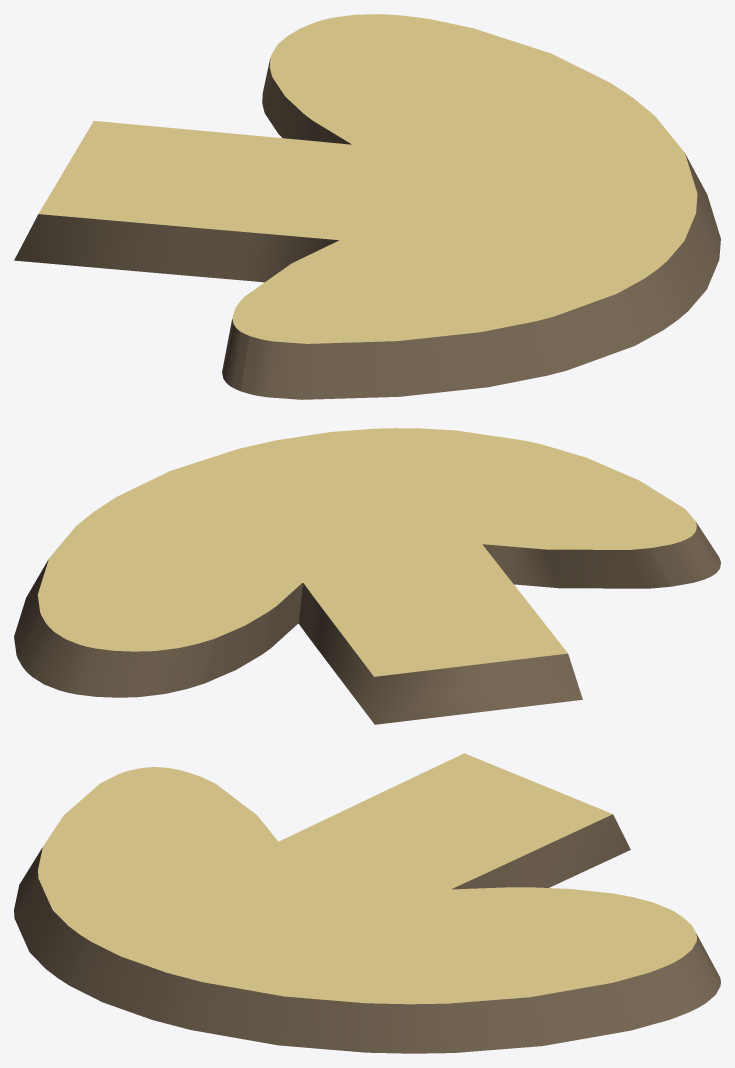
The model's file is Mashroom.fbx.
3 renders of one model, top to bottom at view 1: azimuth 30°, elevation 25°; view 2: azimuth 150°, elevation 25°; view 3: azimuth 270°, elevation 25°, orthographic. The views are drawn at different scales.
Visible parts, largest first — view 1: Mashroom; view 2: Mashroom; view 3: Mashroom.
Part boxes in pixels (x1,y1,x2,y2): Mashroom: [14, 14, 720, 399]; Mashroom: [14, 428, 720, 724]; Mashroom: [14, 753, 720, 1053].
Size of the model in its own units: 5.69 by 0.3974 by 6.31.
